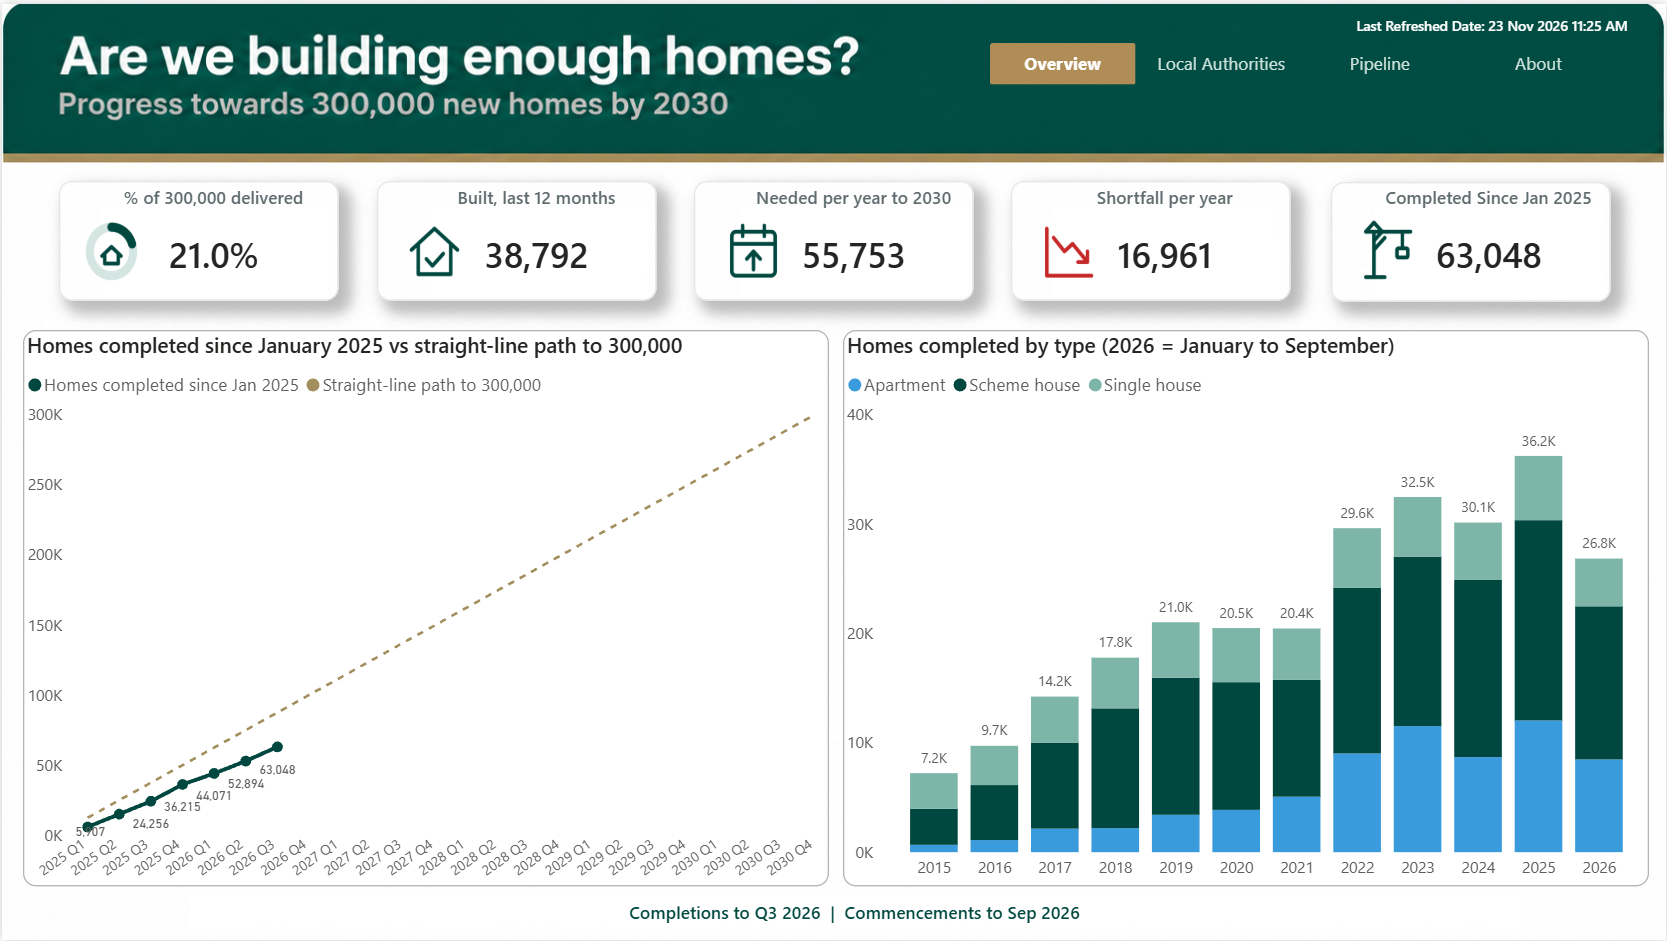

Layout of this report page (visuals, bound fields, positions):
{"tool":"powerbi","page":{"name":"Overview","canvas":[1280,720],"ordinal":0},"visuals":[{"type":"shape","box":[44,136.1,215,91.8],"z":0},{"type":"cardVisual","title":"% of 300,000 delivered","fields":{"Data":["_Measures.% of Target Delivered"]},"box":[75,140,175,85],"z":1000},{"type":"shape","box":[288.1,136.1,215,91.8],"z":2000},{"type":"shape","box":[532.2,136.1,215,91.8],"z":3000},{"type":"shape","box":[776.4,136.1,215,91.8],"z":4000},{"type":"shape","box":[1022.4,136.6,215.5,92.2],"z":5000},{"type":"cardVisual","title":"Built, last 12 months","fields":{"Data":["_Measures.Current Run Rate"]},"box":[326,140,170,85],"z":6000},{"type":"cardVisual","title":"Needed per year to 2030","fields":{"Data":["_Measures.Run Rate Needed"]},"box":[568,140,175,85],"z":7000},{"type":"cardVisual","title":"Completed Since Jan 2025","fields":{"Data":["_Measures.Cumulative Completed"]},"box":[1056,140,175,85],"z":8000},{"type":"cardVisual","title":"Shortfall per year","fields":{"Data":["_Measures.Run Rate Gap"]},"box":[807,140,175,85],"z":9000},{"type":"lineChart","title":"Homes completed since January 2025 vs straight-line path to 300,000","fields":{"Category":["Date.Quarter"],"Y":["_Measures.Cumulative Completed","_Measures.Target Trajectory"]},"box":[16,251,620,428],"z":10000},{"type":"columnChart","title":"Homes completed by type (2026 = January to September)","fields":{"Category":["Date.Year"],"Series":["Completions.House Type"],"Y":["_Measures.Homes Completed"]},"box":[647,251,620,428],"z":11000},{"type":"card","fields":{"Values":["_Measures.Data Note"]},"box":[144,686,1024,24],"z":12000},{"type":"image","box":[59,162,50,56],"z":13000},{"type":"image","box":[308,162,50,56],"z":14000},{"type":"image","box":[553,162,50,56],"z":15000},{"type":"image","box":[795,162,50,56],"z":16000},{"type":"image","box":[1041,162,50,56],"z":17000},{"type":"pageNavigator","box":[760,30,480,32],"z":18000},{"type":"card","fields":{"Values":["_Measures.Last Refreshed Date"]},"box":[1022.1,3.7,247.9,30.7],"z":18001}]}

Visuals, with their boxes in screenshot pixels (x1, y1, x2, y2), scaled from the page's 1280x720 canvas onto the 1667x941 screenshot:
shape: crop(57, 178, 337, 298)
"% of 300,000 delivered" cardVisual: crop(98, 183, 326, 294)
shape: crop(375, 178, 655, 298)
shape: crop(693, 178, 973, 298)
shape: crop(1011, 178, 1291, 298)
shape: crop(1332, 179, 1612, 299)
"Built, last 12 months" cardVisual: crop(425, 183, 646, 294)
"Needed per year to 2030" cardVisual: crop(740, 183, 968, 294)
"Completed Since Jan 2025" cardVisual: crop(1375, 183, 1603, 294)
"Shortfall per year" cardVisual: crop(1051, 183, 1279, 294)
"Homes completed since January 2025 vs straight-line path to 300,000" lineChart: crop(21, 328, 828, 887)
"Homes completed by type (2026 = January to September)" columnChart: crop(843, 328, 1650, 887)
card - _Measures.Data Note: crop(188, 897, 1521, 928)
image: crop(77, 212, 142, 285)
image: crop(401, 212, 466, 285)
image: crop(720, 212, 785, 285)
image: crop(1035, 212, 1100, 285)
image: crop(1356, 212, 1421, 285)
pageNavigator: crop(990, 39, 1615, 81)
card - _Measures.Last Refreshed Date: crop(1331, 5, 1654, 45)
